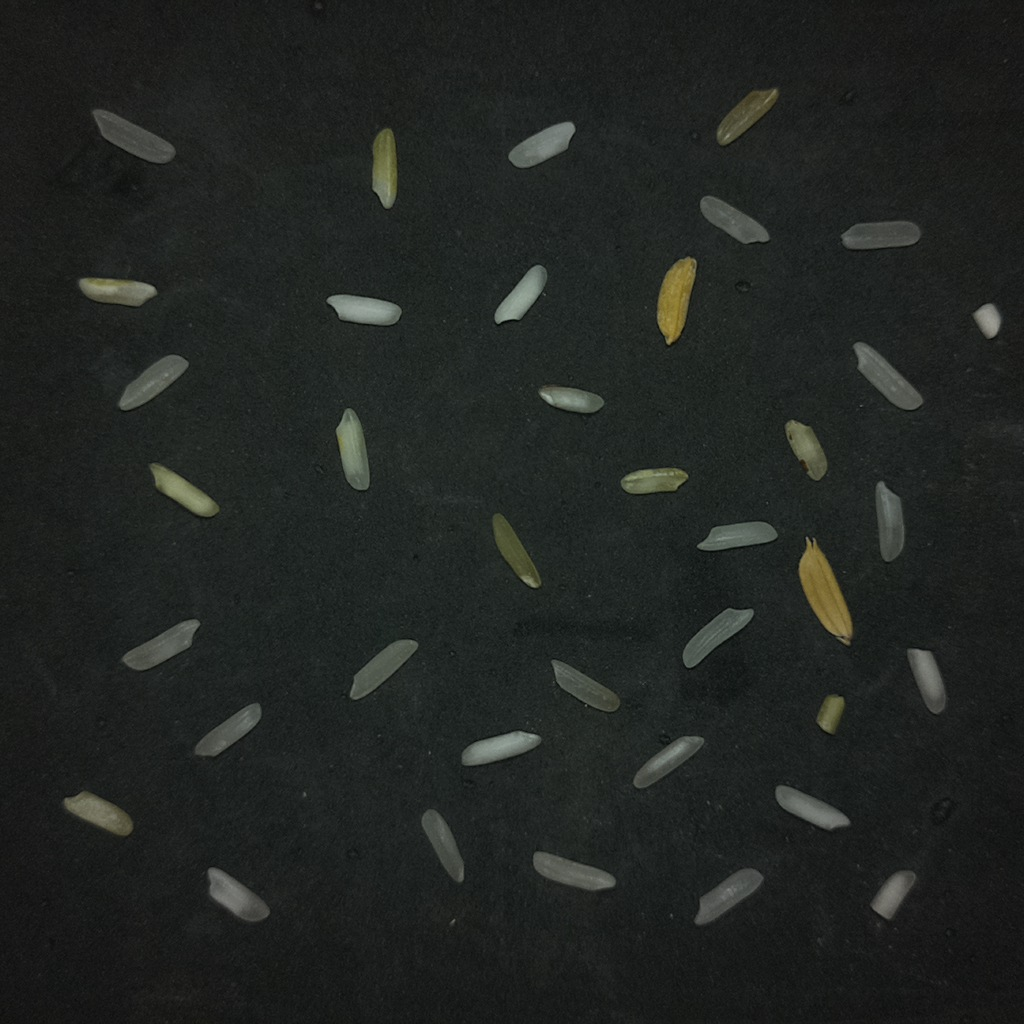broken: (207, 868, 269, 922), (63, 791, 133, 836), (907, 649, 946, 714), (697, 521, 777, 550), (816, 694, 844, 734)
chalky: (149, 463, 219, 517), (508, 122, 576, 169), (494, 264, 546, 323), (461, 730, 540, 766), (336, 408, 369, 490), (326, 293, 401, 325), (871, 870, 916, 919), (538, 385, 604, 413), (972, 303, 1001, 339)
discolored: (492, 513, 541, 589), (716, 88, 778, 146), (785, 420, 827, 480), (78, 277, 156, 307), (372, 128, 397, 208), (620, 468, 687, 493)
paddy: (798, 538, 853, 645), (657, 257, 696, 344)
whole: (853, 342, 922, 410), (92, 109, 175, 163), (349, 639, 418, 699), (683, 608, 753, 667), (121, 618, 199, 670), (694, 869, 763, 925), (118, 355, 188, 410), (633, 736, 704, 789), (194, 703, 261, 756), (552, 660, 619, 711), (775, 785, 849, 830), (700, 196, 769, 243), (533, 851, 615, 890), (421, 809, 464, 882), (875, 481, 903, 561), (841, 221, 920, 249)
